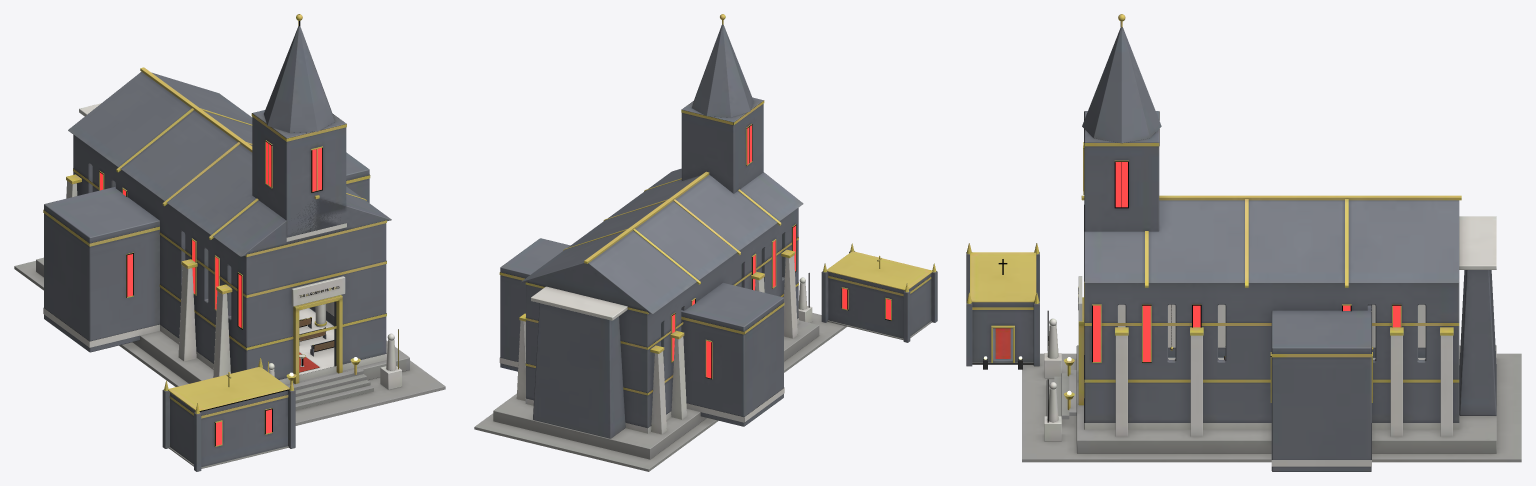
The model's file is reliquary.glb.
3 views of the same model, side by side, from view 1: azimuth 30°, elevation 25°; view 2: azimuth 150°, elevation 25°; view 3: azimuth 270°, elevation 25° (orthographic). The views are drawn at different scales.
Visible parts, largest first — view 1: hull, glass; view 2: hull, glass; view 3: hull, glass.
Boxes of the visible parts, left/top/right/bottom form: hull: left=14, top=14, right=445, bottom=471; glass: left=100, top=142, right=321, bottom=445; hull: left=474, top=14, right=937, bottom=471; glass: left=672, top=125, right=890, bottom=378; hull: left=966, top=14, right=1521, bottom=471; glass: left=1093, top=162, right=1400, bottom=361.
Bounding box in the file's own units: 31.47 × 34.9 × 44.45.
12 materials, 9 textured.
